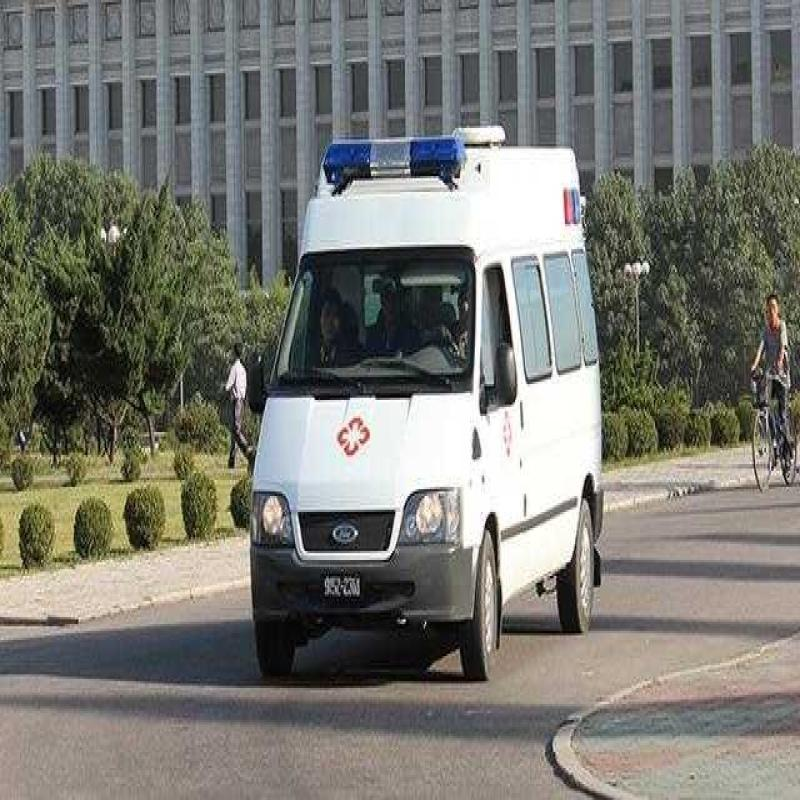AmbulanceSiren: (317, 123, 475, 202)
